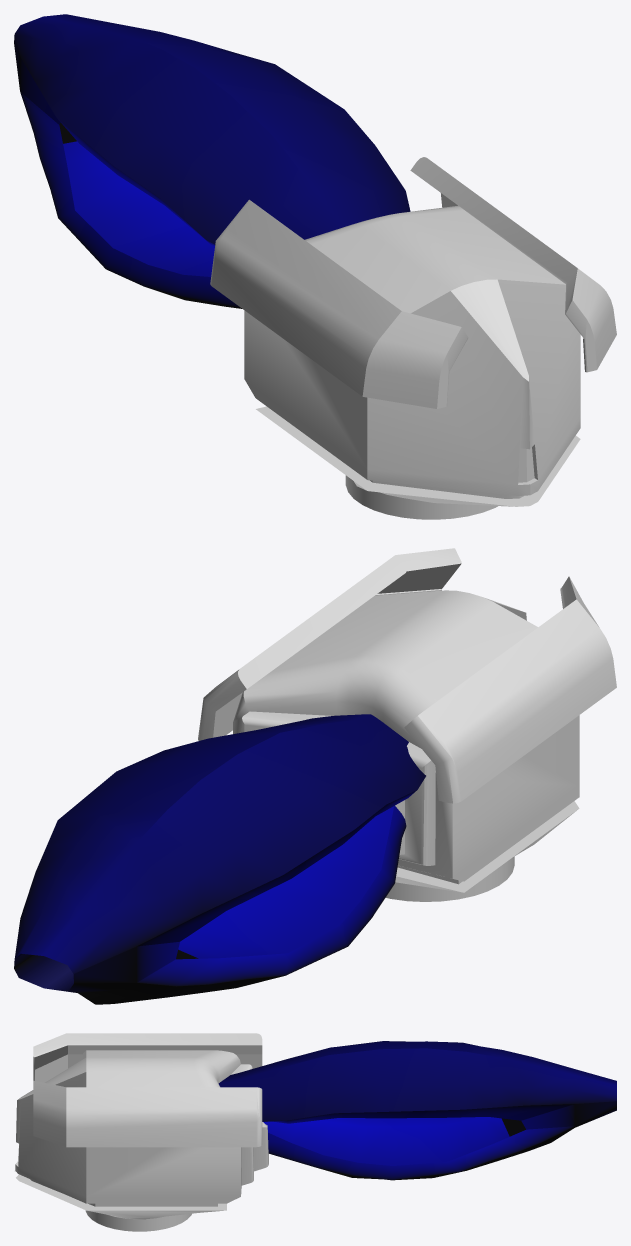
The model's file is ff_cannon_02.fbx.
3 renders of one model, top to bottom at view 1: azimuth 30°, elevation 25°; view 2: azimuth 150°, elevation 25°; view 3: azimuth 270°, elevation 25°, orthographic. The views are drawn at different scales.
Parts seen in each view (by area): view 1: ff_cannon_02; view 2: ff_cannon_02; view 3: ff_cannon_02.
Boxes of the visible parts, bbox=[...] form: ff_cannon_02: bbox=[14, 14, 616, 519]; ff_cannon_02: bbox=[14, 548, 616, 1004]; ff_cannon_02: bbox=[14, 1033, 616, 1231].
Bounding box in the file's own units: 40.4 × 38.07 × 132.
